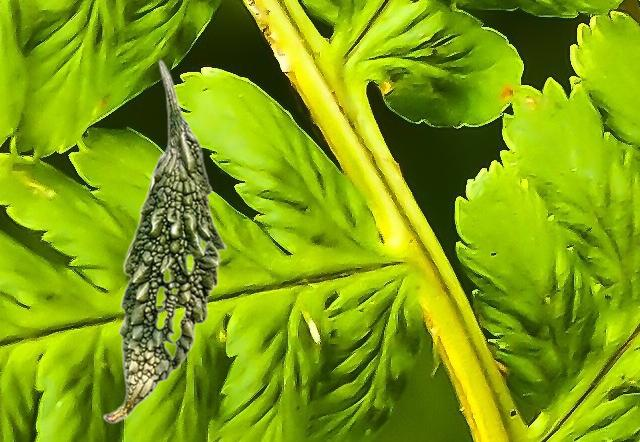ampalaya: (102, 58, 226, 422)
